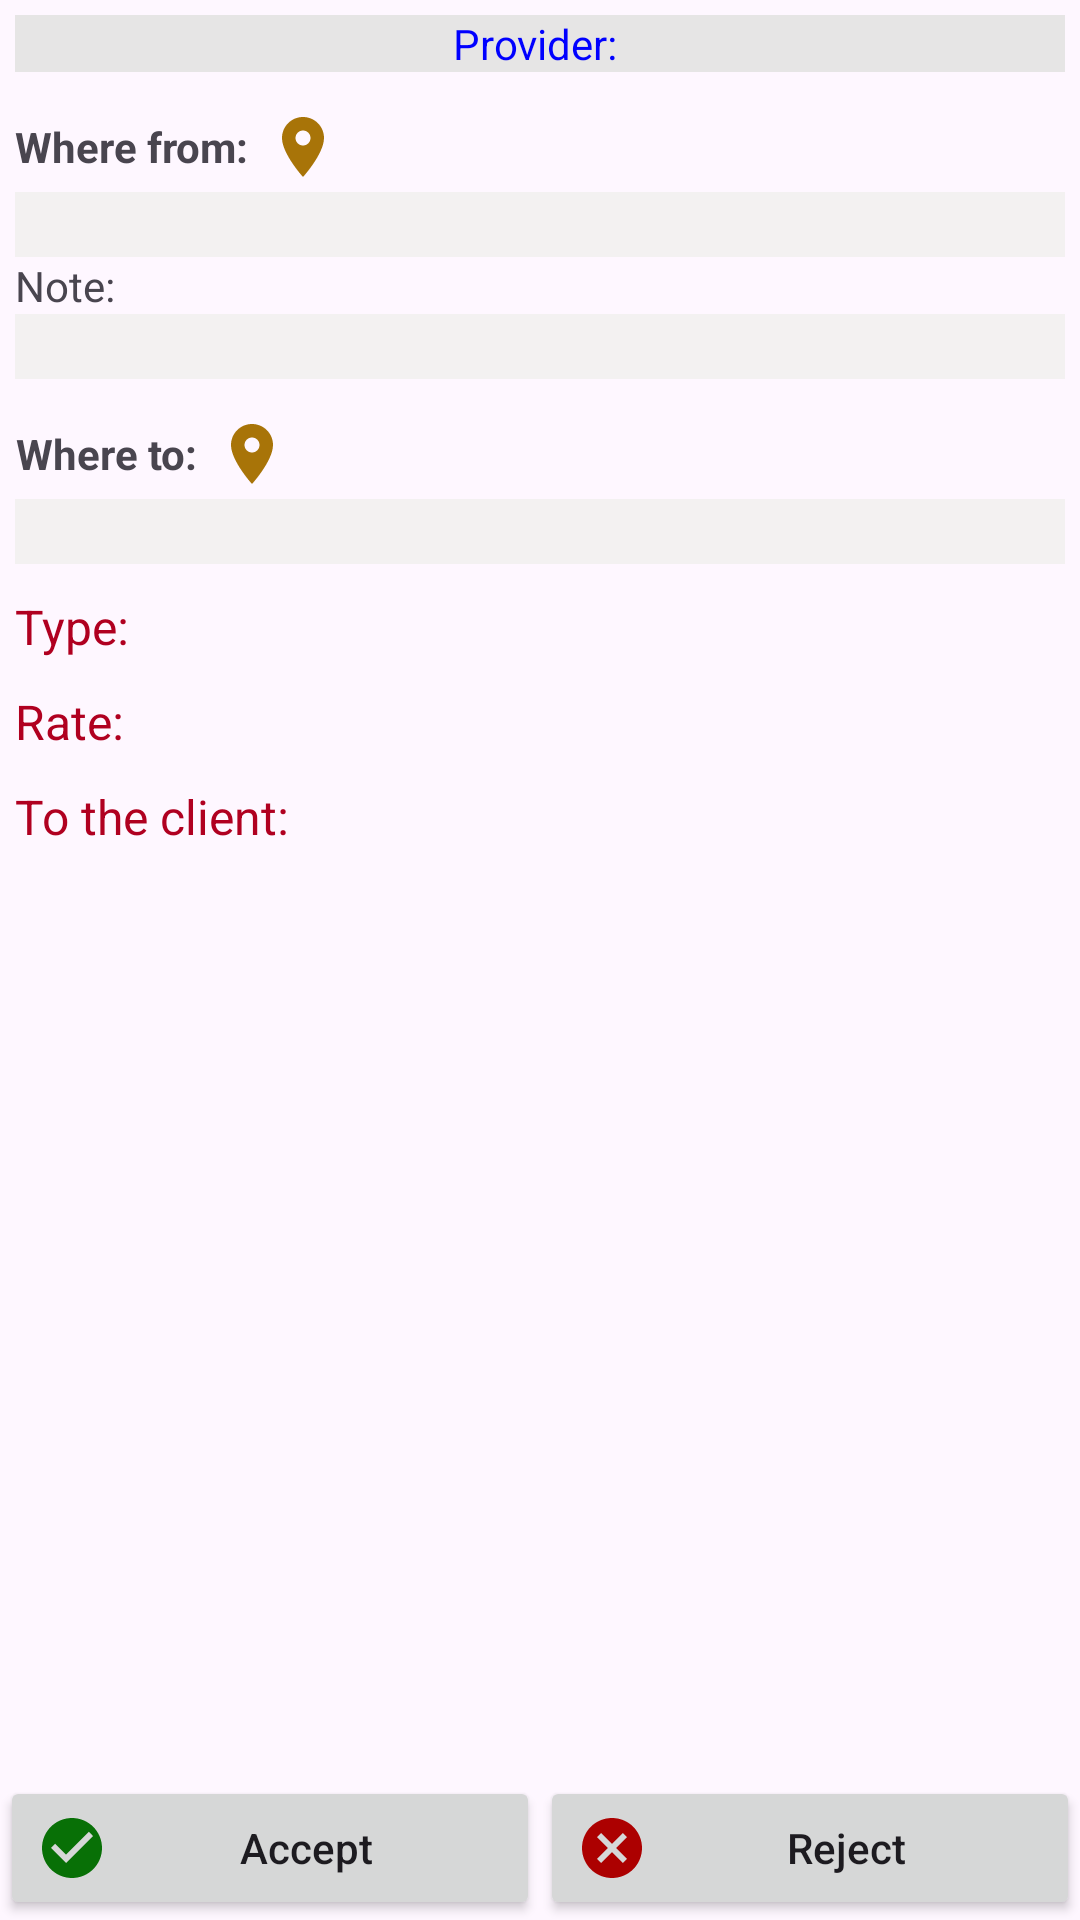

Named icons in this screenshot (1080px x 1920px) and their centers, [x,y]:
location on: [303,147], [252,454]
